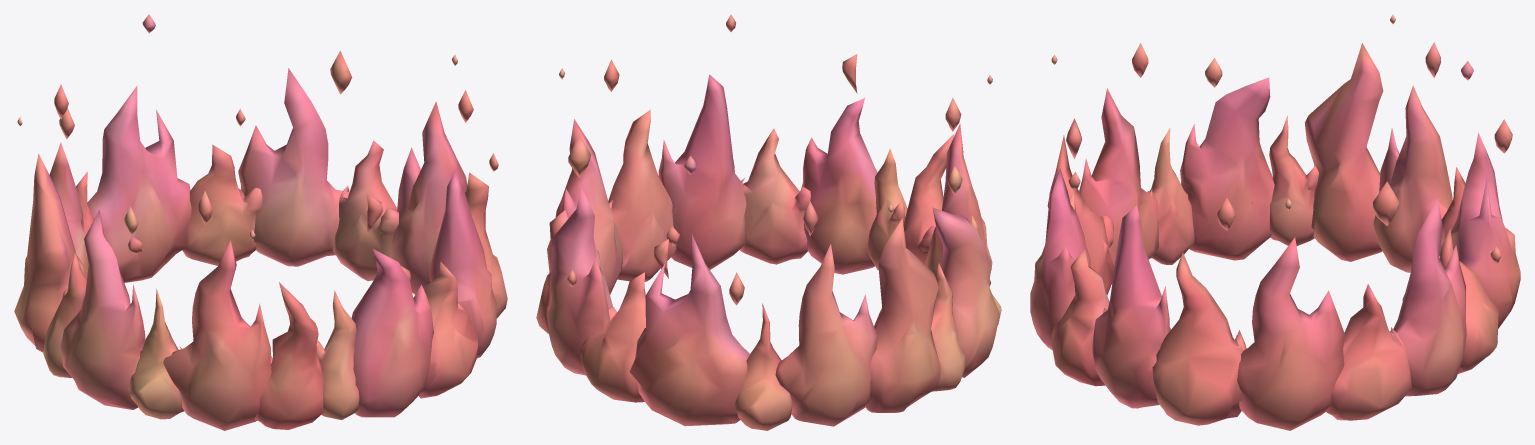
Rendered from fuego_4.glb.
3 renders of one model, left to right at view 1: azimuth 30°, elevation 25°; view 2: azimuth 150°, elevation 25°; view 3: azimuth 270°, elevation 25°, orthographic. The views are drawn at different scales.
Parts seen in each view (by area): view 1: tripo_node_1d6bf59e-997f-48b0-a883-9972a81af5c0; view 2: tripo_node_1d6bf59e-997f-48b0-a883-9972a81af5c0; view 3: tripo_node_1d6bf59e-997f-48b0-a883-9972a81af5c0.
Boxes of the visible parts, x1,y1,x2,y2 form: tripo_node_1d6bf59e-997f-48b0-a883-9972a81af5c0: (14,14,507,430); tripo_node_1d6bf59e-997f-48b0-a883-9972a81af5c0: (536,14,1001,430); tripo_node_1d6bf59e-997f-48b0-a883-9972a81af5c0: (1030,14,1520,430).
Bounding box in the file's own units: 0.998 × 0.6152 × 0.998.
1 material, 1 textured.
